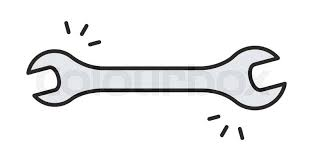Wrench: (26, 46, 286, 109)
